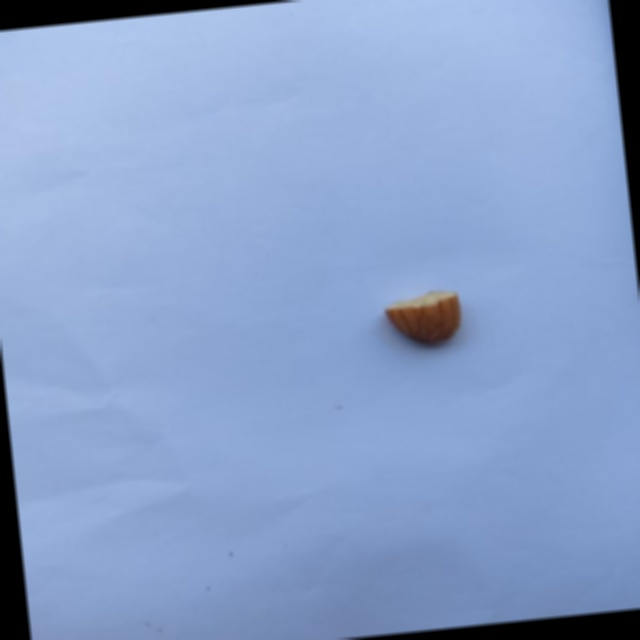grade4: (375, 284, 471, 356)
